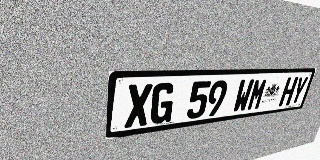5: (186, 81, 211, 120)
9: (204, 80, 229, 117)
G: (149, 82, 176, 125)
H: (278, 77, 299, 107)
M: (246, 78, 268, 111)
W: (232, 79, 255, 113)
X: (124, 83, 153, 128)
Y: (289, 76, 309, 105)
